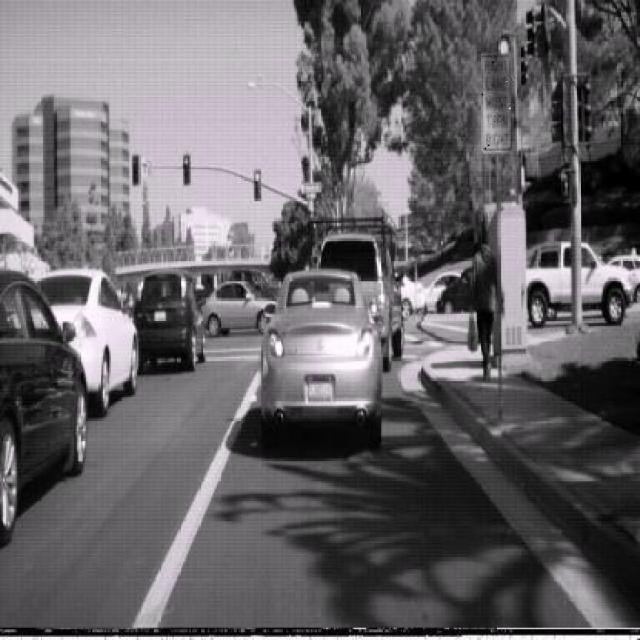rightLaneMustTurn: (480, 52, 514, 155)
